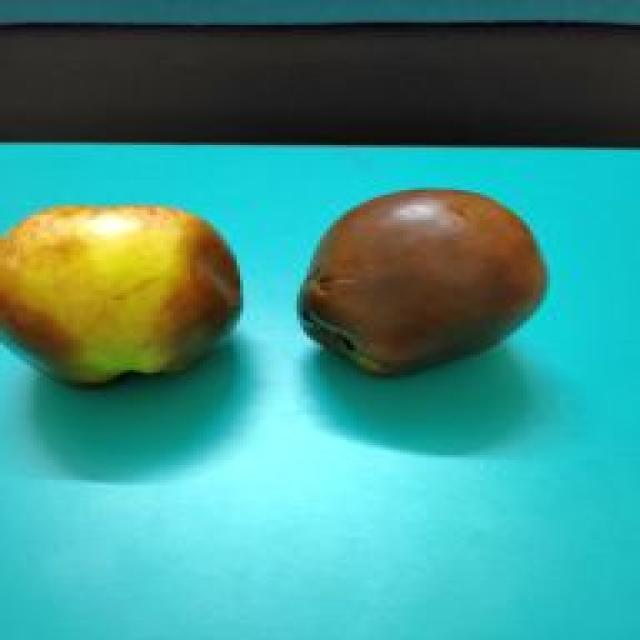Bad_Apple: (298, 190, 542, 374)
